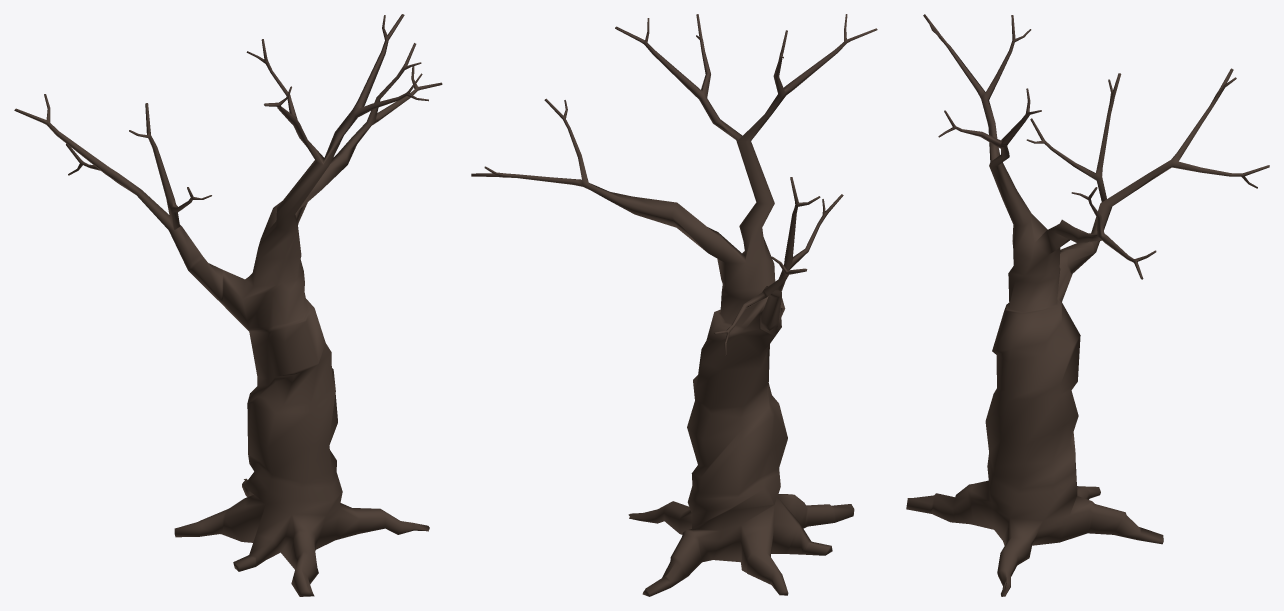
The model's file is SpookyTree02.glb.
The picture shows the model from 3 angles, left to right: view 1: azimuth 30°, elevation 25°; view 2: azimuth 150°, elevation 25°; view 3: azimuth 270°, elevation 25°; orthographic projection. The views are drawn at different scales.
Parts seen in each view (by area): view 1: SpookyTree02; view 2: SpookyTree02; view 3: SpookyTree02.
Boxes of the visible parts, box(x1,y1,x2,y2) form: SpookyTree02: box(14, 14, 442, 596); SpookyTree02: box(471, 14, 877, 596); SpookyTree02: box(906, 14, 1269, 596).
Size of what is drawn, in the model's own units: 5.22 by 6.91 by 4.49.
Materials: 1 (1 with a texture image).
